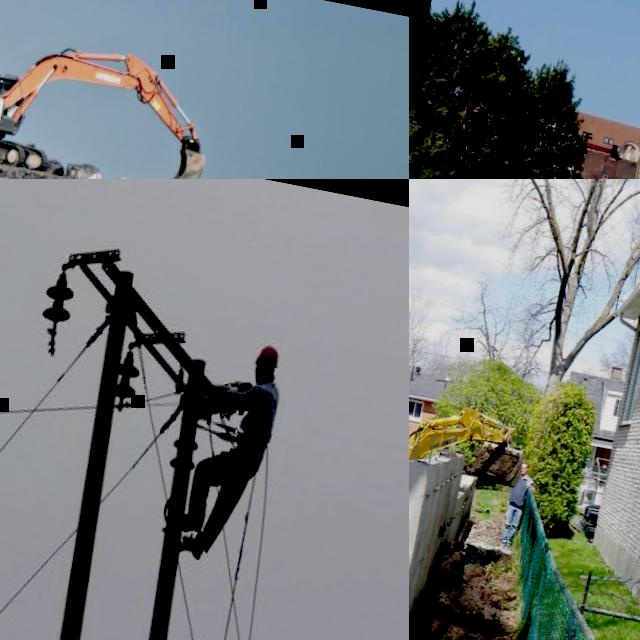Hardhat: (253, 343, 284, 372)
NO-Hardhat: (522, 461, 532, 469)
NO-Mask: (521, 469, 530, 476)
NO-Safety Vest: (239, 380, 282, 444), (507, 473, 530, 507)
Person: (174, 335, 291, 569), (499, 459, 542, 548)
machinery: (0, 17, 225, 179), (532, 0, 640, 179), (409, 393, 535, 491)
